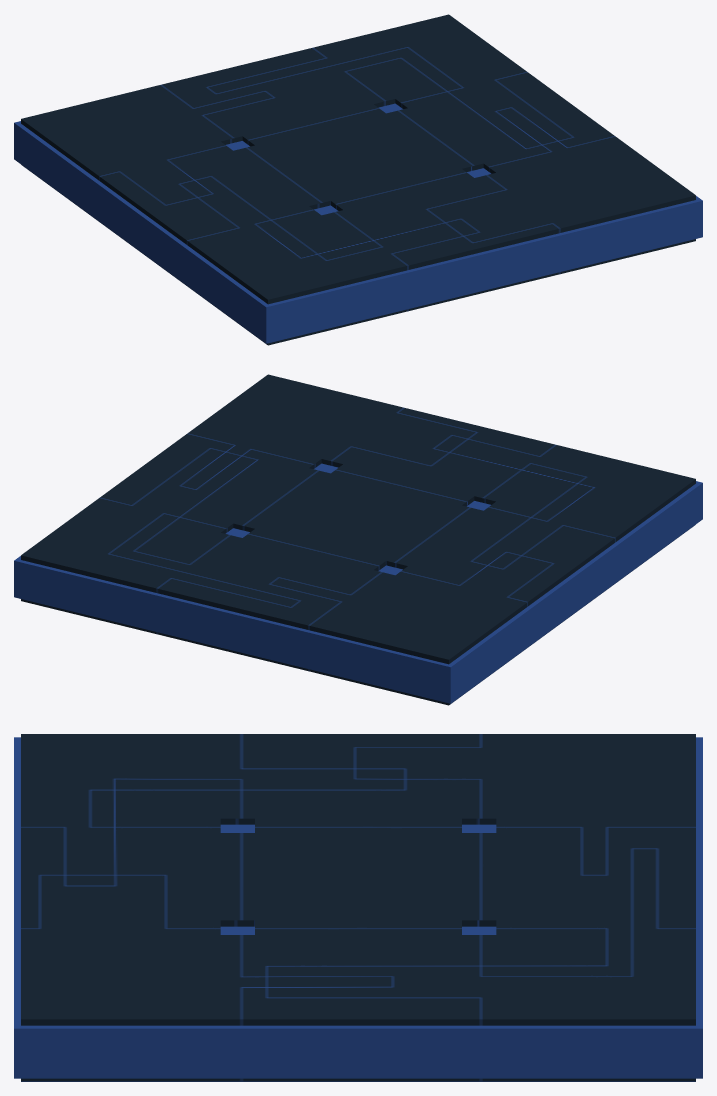
Rendered from BigPoint.fbx.
3 views of the same model, one above another, from view 1: azimuth 30°, elevation 25°; view 2: azimuth 150°, elevation 25°; view 3: azimuth 270°, elevation 25° (orthographic). The views are drawn at different scales.
Parts seen in each view (by area): view 1: Model; view 2: Model; view 3: Model.
Boxes of the visible parts, left/top/right/bottom form: Model: left=14, top=14, right=702, bottom=345; Model: left=14, top=374, right=702, bottom=705; Model: left=14, top=734, right=702, bottom=1081.
Size of what is drawn, in the model's own units: 2000 by 200 by 2000.
1 material, 1 textured.
